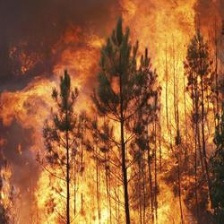fire: (124, 2, 209, 221), (32, 74, 123, 221)
